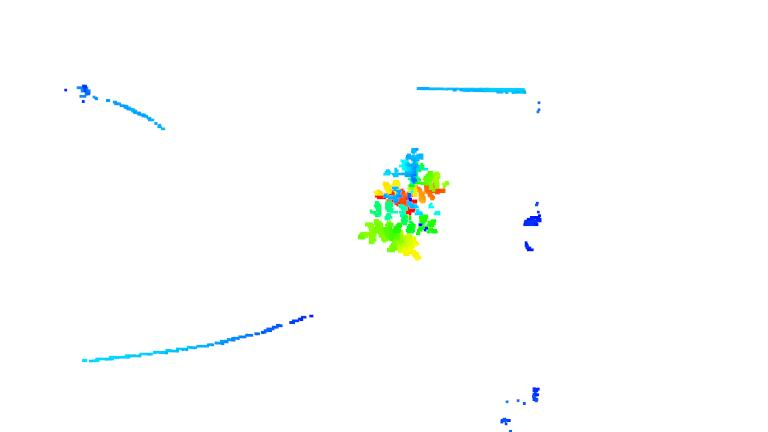chickpea: (356, 146, 450, 262)
